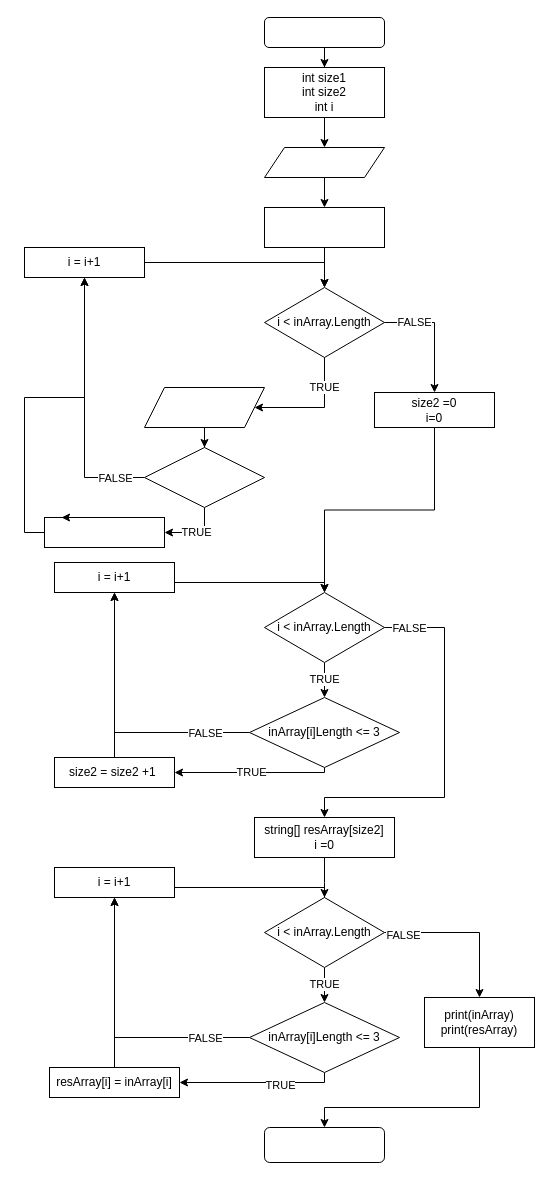
The diagram is 552 pixels wide and 1180 high, and some of its shapes have lost their labels. Here are the shapes that lost their labels. From the top down, the centre of each, then its label:
[324,32]: Start
[324,162]: size1
[324,227]: string[] inArray [size1] i =0
[204,407]: inArray[i]
[204,477]: inArray[i] == null
[104,532]: inArray[i] = ""
[324,1144]: Finish
